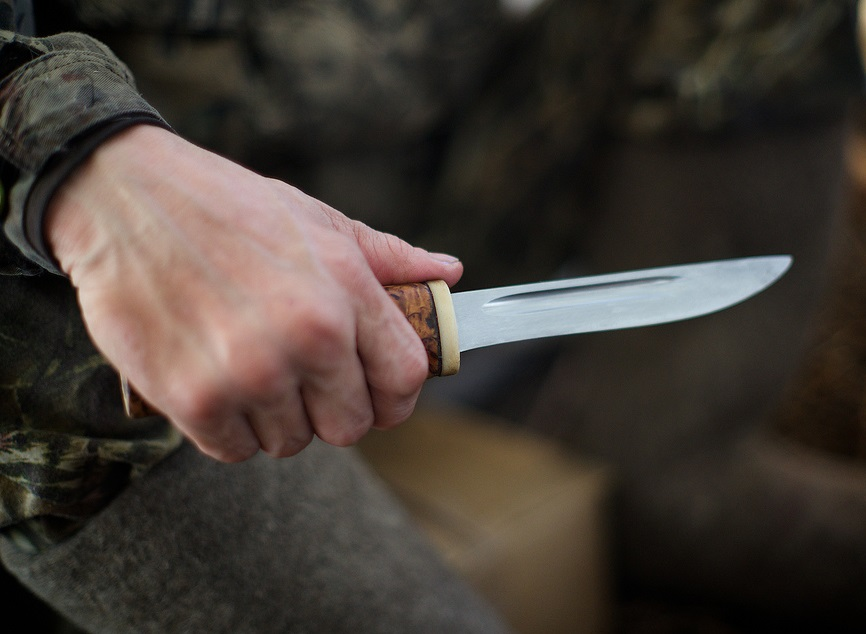knife: (261, 216, 809, 464)
